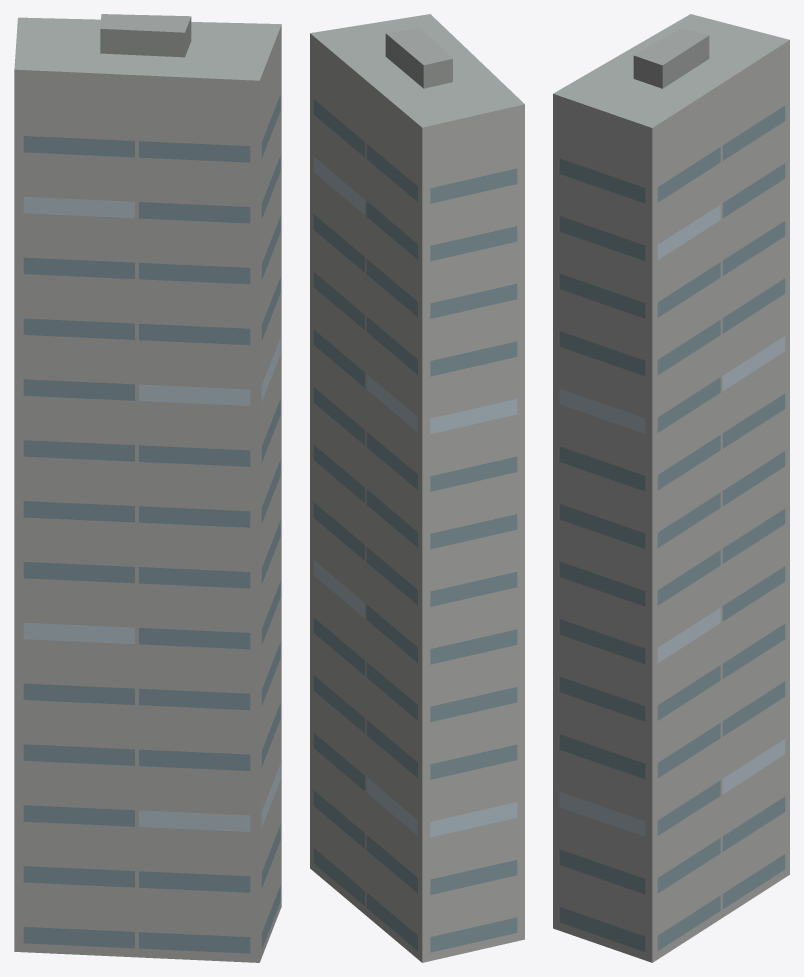
File: fallback-jamsil-ricenz-206.glb
3 views of the same model, side by side, from view 1: azimuth 30°, elevation 25°; view 2: azimuth 150°, elevation 25°; view 3: azimuth 270°, elevation 25° (orthographic). The views are drawn at different scales.
Visible parts, largest first — view 1: fallback-jamsil-ricenz-206; view 2: fallback-jamsil-ricenz-206; view 3: fallback-jamsil-ricenz-206.
Boxes of the visible parts, x1,y1,x2,y2 form: fallback-jamsil-ricenz-206: [14, 14, 281, 962]; fallback-jamsil-ricenz-206: [310, 14, 524, 962]; fallback-jamsil-ricenz-206: [553, 14, 789, 962].
Size of the model in its own units: 25.1 by 88 by 22.02.
